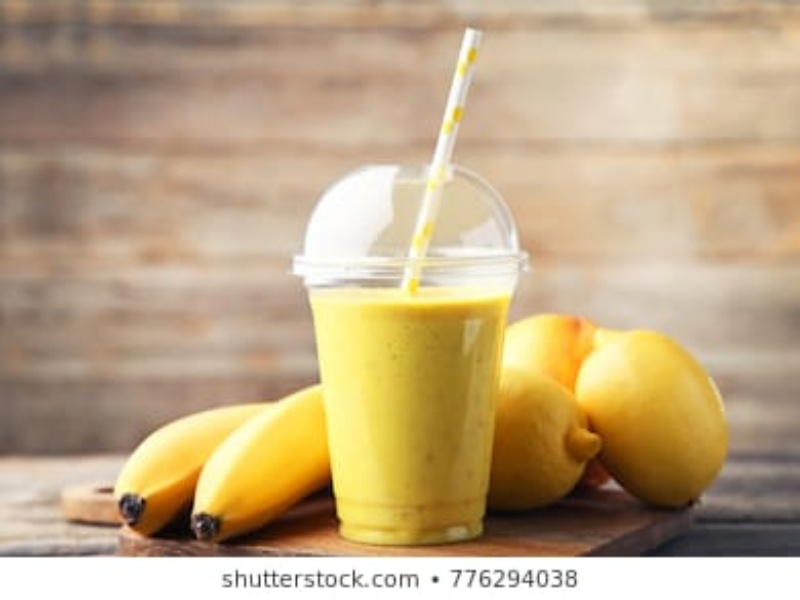plastic-cup: (289, 154, 530, 549)
straw: (394, 19, 484, 297)
